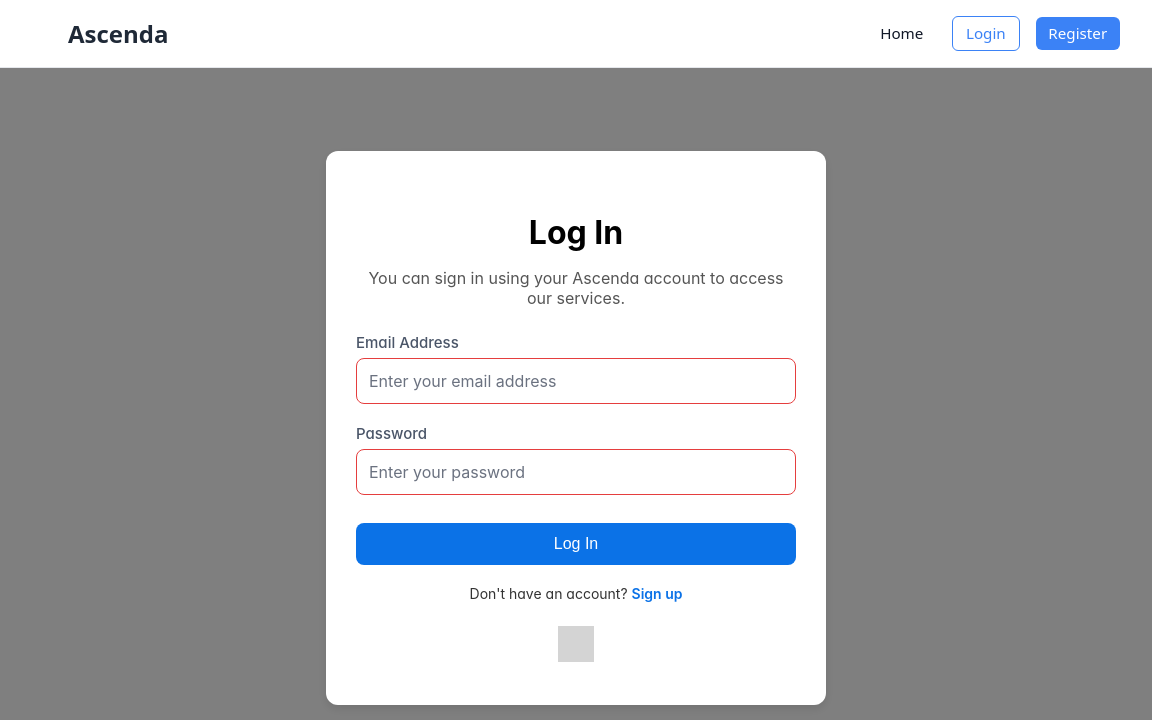
Scenario: Login Page Tests › should show an error message for invalid credentials
The width and height of the screenshot is (1152, 720).
Simulate entering invalid email and password
Type "invalidemail@example.com" into the field named "email" at [576, 381], box [356,358,796,404]
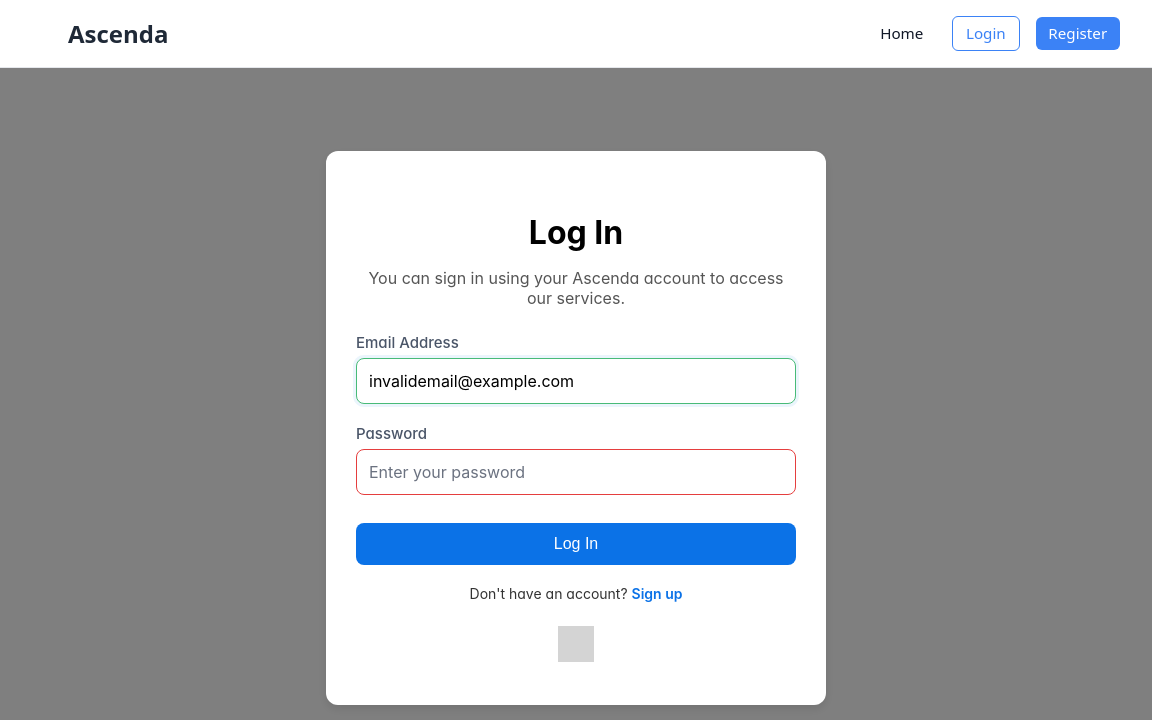
Type "wrongpassword" into the password field named "password" at [576, 472], box [356,449,796,495]
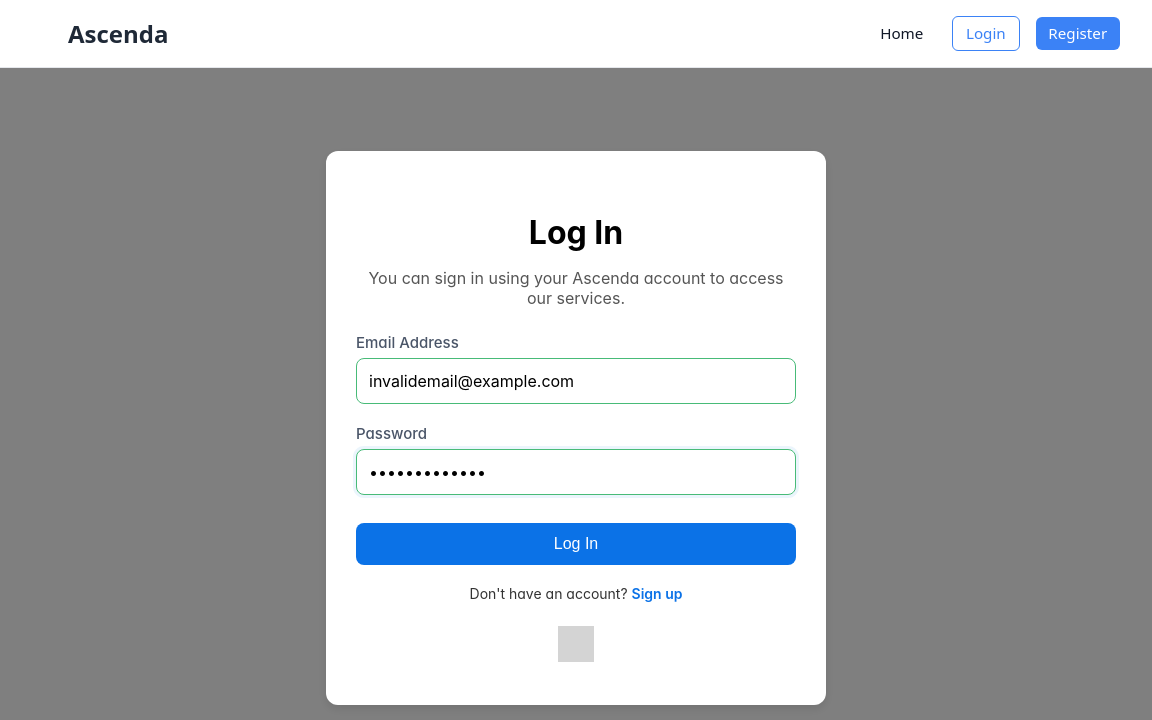
Click the login button
Click the submit button at [576, 544], box [356,523,796,565]
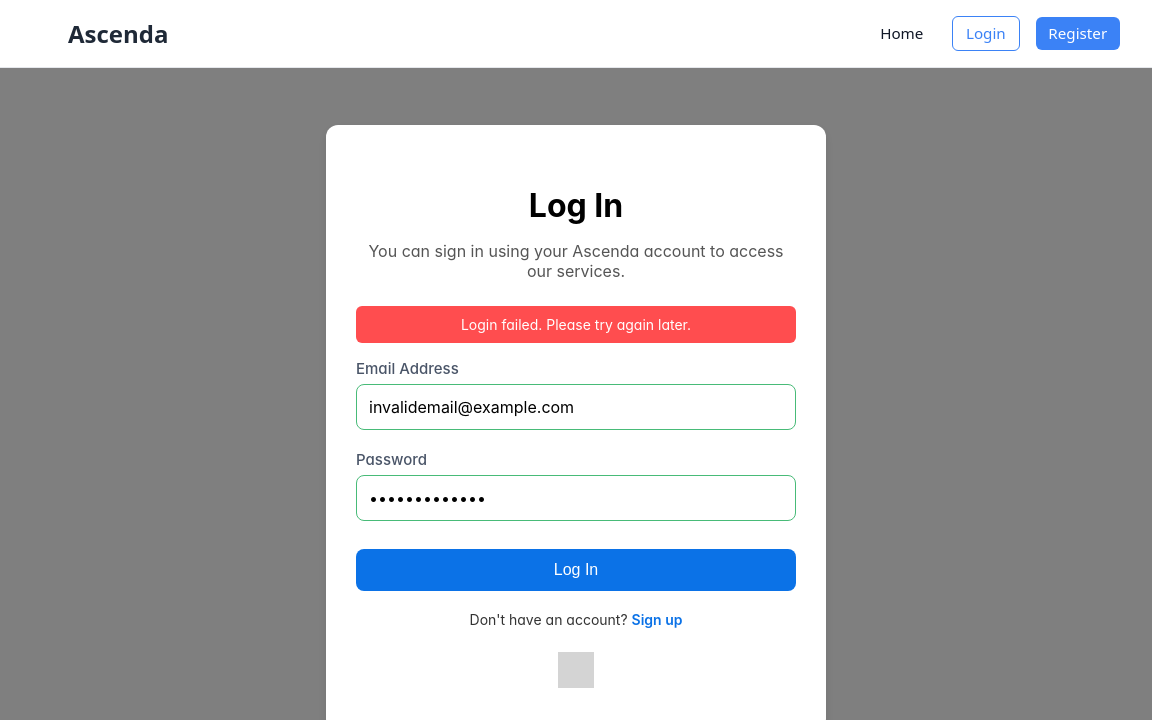
expect the text with class "error-message" reads "Login failed. Please try again later.": met, box [356,306,796,343]
